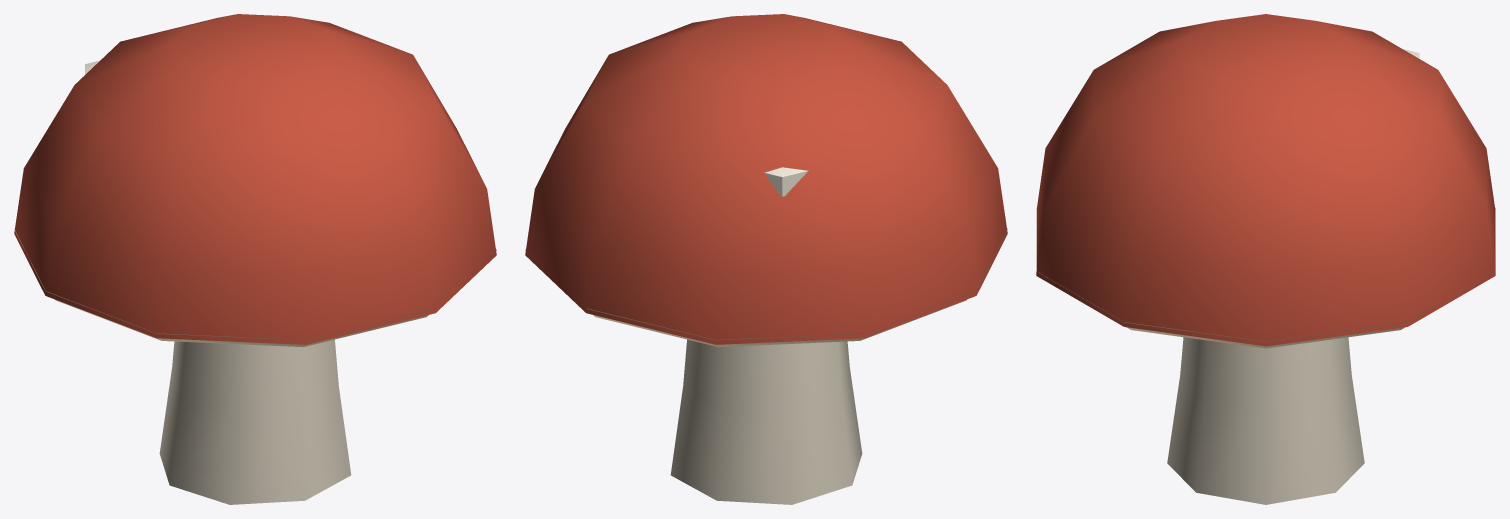
File: mushroom_round.glb
3 renders of one model, left to right at view 1: azimuth 30°, elevation 25°; view 2: azimuth 150°, elevation 25°; view 3: azimuth 270°, elevation 25°, orthographic.
Parts seen in each view (by area): view 1: mushroom_round; view 2: mushroom_round; view 3: mushroom_round.
Boxes of the visible parts, box(x1,y1,x2,y2) form: mushroom_round: box(14, 14, 496, 504); mushroom_round: box(525, 14, 1007, 504); mushroom_round: box(1036, 14, 1495, 504).
Size of the model in its own units: 0.09 by 0.088 by 0.0856.
